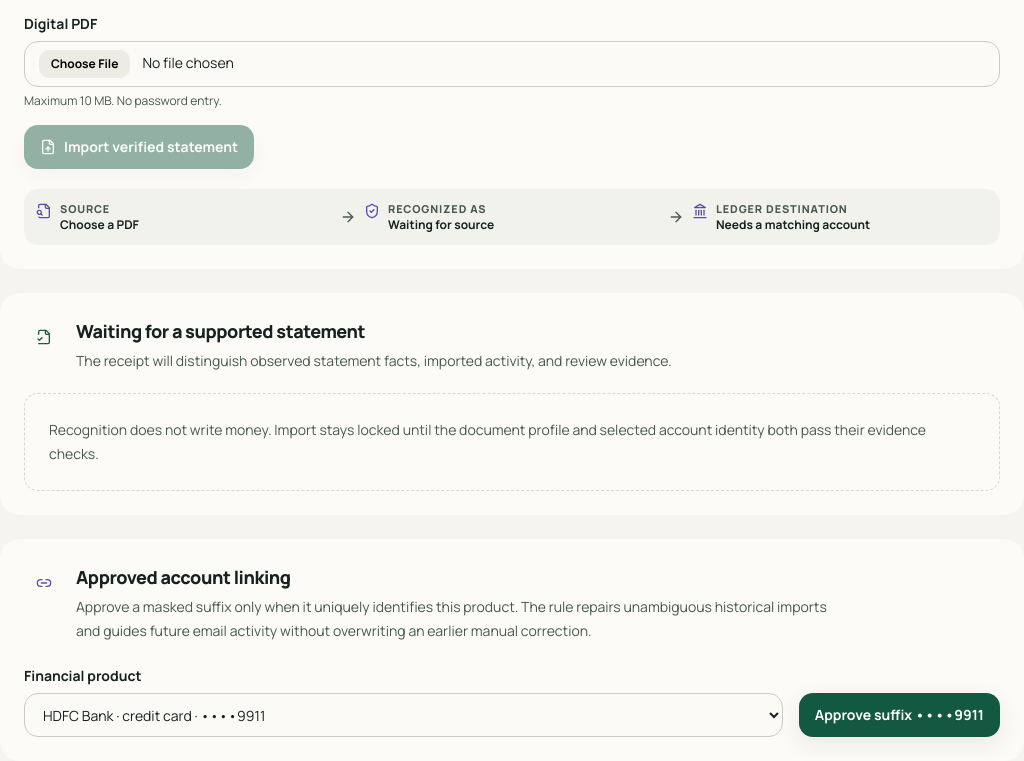
Test: StatementImportSection › requires an explicit approval before using a masked account-link rule
The image size is (1024, 761).
(page scrolled)
Click the button "Approve suffix ••••9911" at point(899, 715), box [799, 693, 1000, 737]
(page scrolled)
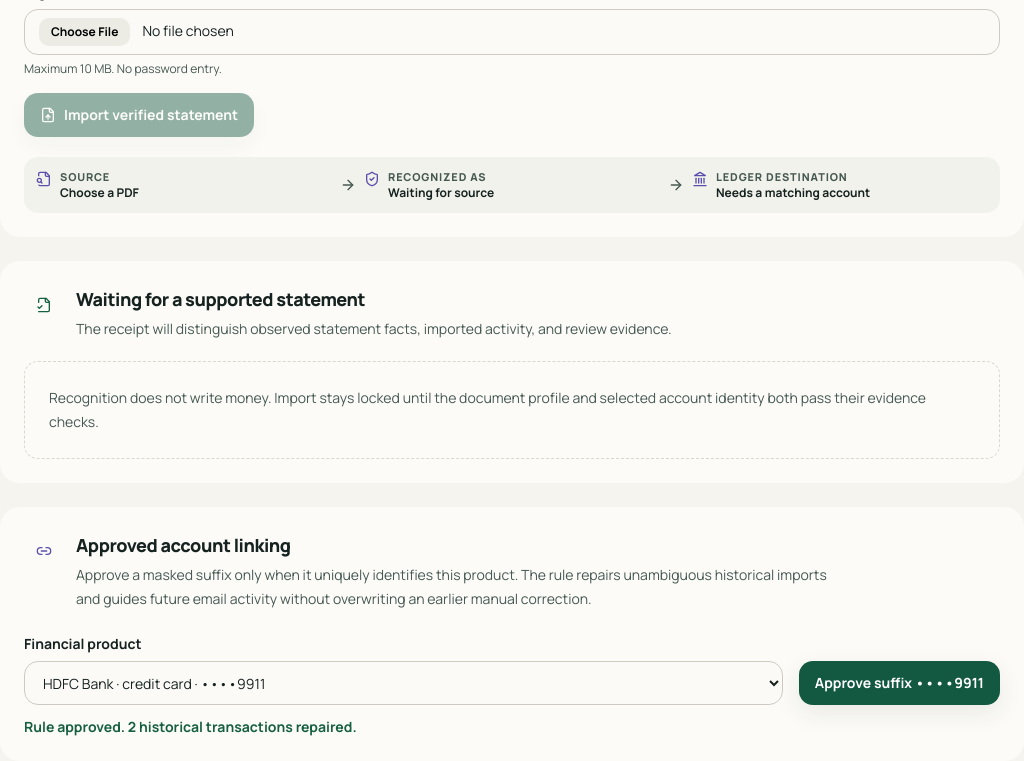
Check: the text "Rule approved. 2 historical transactions repaired." is shown, box [24, 717, 357, 736]
